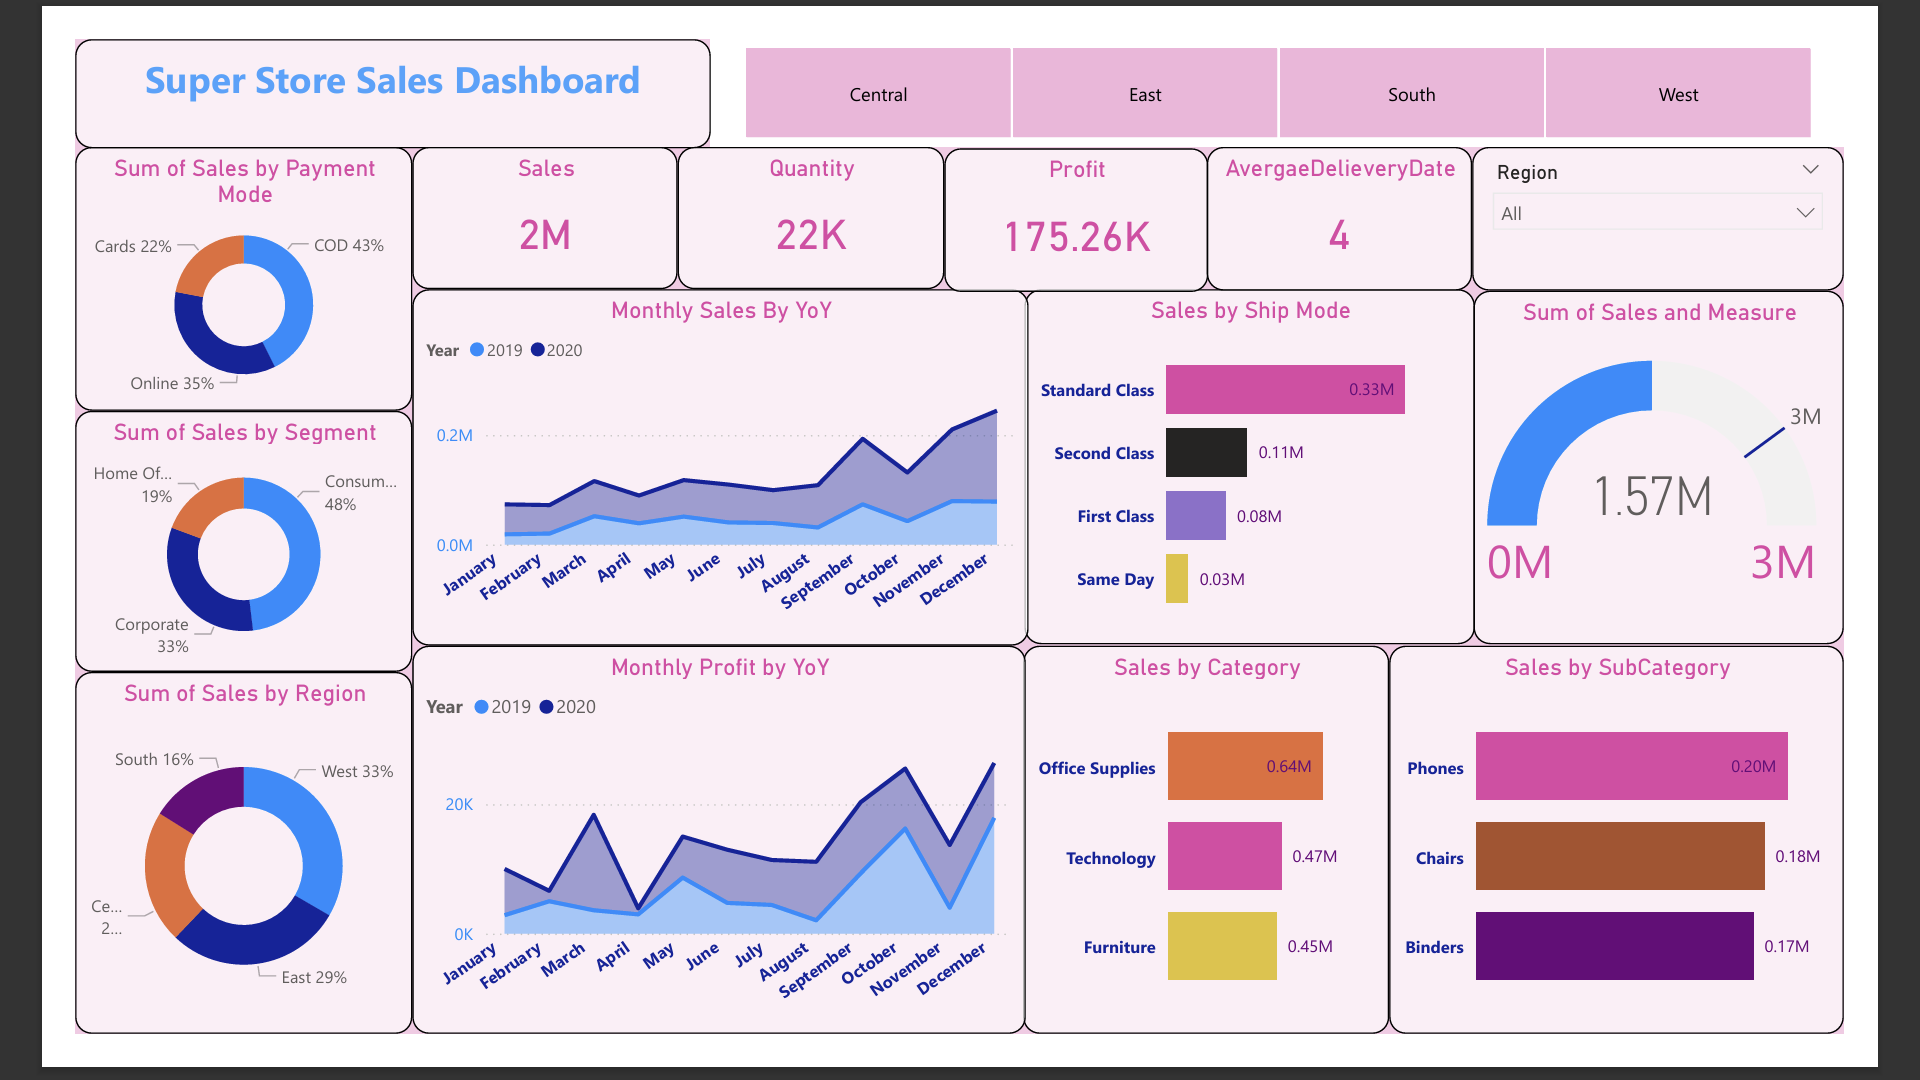

What the dashboard file says about the page in this screenshot:
{"tool":"powerbi","page":{"name":"Page 1","canvas":[1280,720],"ordinal":0},"visuals":[{"type":"clusteredBarChart","title":"Sales by Category","fields":{"Category":["SuperStore_Sales_Dataset.Category"],"Y":["Sum(SuperStore_Sales_Dataset.Sales)"]},"box":[686.2,438.8,265,281.2],"z":0},{"type":"clusteredBarChart","title":"Sales by SubCategory","fields":{"Category":["SuperStore_Sales_Dataset.Sub-Category"],"Y":["Sum(SuperStore_Sales_Dataset.Sales)"]},"box":[951.2,438.8,328.8,281.2],"z":1000},{"type":"clusteredBarChart","title":"Sales by Ship Mode","fields":{"Category":["SuperStore_Sales_Dataset.Ship Mode"],"Y":["Sum(SuperStore_Sales_Dataset.Sales)"]},"box":[687.2,181,325.3,256.8],"z":2000},{"type":"stackedAreaChart","title":"Monthly Sales By YoY","fields":{"Y":["Sum(SuperStore_Sales_Dataset.Sales)"],"Category":["SuperStore_Sales_Dataset.Order Date.Variation.Date Hierarchy.Month"],"Series":["SuperStore_Sales_Dataset.Order Date.Variation.Date Hierarchy.Year"]},"box":[243.8,181.2,446.2,257.5],"z":3000},{"type":"stackedAreaChart","title":"Monthly Profit by YoY","fields":{"Category":["SuperStore_Sales_Dataset.Order Date.Variation.Date Hierarchy.Month","SuperStore_Sales_Dataset.Order Date.Variation.Date Hierarchy.Day"],"Y":["Sum(SuperStore_Sales_Dataset.Profit)"],"Series":["SuperStore_Sales_Dataset.Order Date.Variation.Date Hierarchy.Year"]},"box":[243.8,438.8,443.8,281.2],"z":4000},{"type":"donutChart","fields":{"Category":["SuperStore_Sales_Dataset.Segment"],"Y":["Sum(SuperStore_Sales_Dataset.Sales)"]},"box":[0,268.8,243.8,188.8],"z":5000},{"type":"donutChart","fields":{"Y":["Sum(SuperStore_Sales_Dataset.Sales)"],"Category":["SuperStore_Sales_Dataset.Payment Mode"]},"box":[0,77.5,243.8,191.2],"z":6000},{"type":"slicer","fields":{"Values":["SuperStore_Sales_Dataset.Region"]},"box":[459.8,0,820.5,78.3],"z":7000},{"type":"textbox","box":[0,0,460,78.8],"z":8000},{"type":"card","title":"Sales","fields":{"Values":["Sum(SuperStore_Sales_Dataset.Sales)"]},"box":[243.8,77.5,192.5,103.8],"z":9000},{"type":"card","title":"Quantity","fields":{"Values":["Sum(SuperStore_Sales_Dataset.Quantity)"]},"box":[436.2,77.5,192.5,103.8],"z":10000},{"type":"card","title":"Profit","fields":{"Values":["Sum(SuperStore_Sales_Dataset.Profit)"]},"box":[628.8,78.8,191.2,103.8],"z":11000},{"type":"card","title":"AvergaeDelieveryDate","fields":{"Values":["Avg(SuperStore_Sales_Dataset.Column)"]},"box":[819.3,78.3,192,103.9],"z":12000},{"type":"donutChart","fields":{"Y":["Sum(SuperStore_Sales_Dataset.Sales)"],"Category":["SuperStore_Sales_Dataset.Region"]},"box":[0,457.5,243.8,262.5],"z":13000},{"type":"slicer","fields":{"Values":["SuperStore_Sales_Dataset.Region"]},"box":[1011.3,78.3,269,103.9],"z":13001},{"type":"gauge","fields":{"Y":["Sum(SuperStore_Sales_Dataset.Sales)"],"TargetValue":["SuperStore_Sales_Dataset.Measure"]},"box":[1012,182,268,256],"z":13002}]}

Visuals, with their boxes in screenshot pixels (x1, y1, x2, y2), scaled from the page's 1280x720 canvas onto the 1920x1080 screenshot:
"Sales by Category" clusteredBarChart: x1=1029 y1=658 x2=1427 y2=1079
"Sales by SubCategory" clusteredBarChart: x1=1427 y1=658 x2=1919 y2=1079
"Sales by Ship Mode" clusteredBarChart: x1=1031 y1=272 x2=1519 y2=657
"Monthly Sales By YoY" stackedAreaChart: x1=366 y1=272 x2=1035 y2=658
"Monthly Profit by YoY" stackedAreaChart: x1=366 y1=658 x2=1031 y2=1079
donutChart - SuperStore_Sales_Dataset.Segment x Sum(SuperStore_Sales_Dataset.Sales): x1=0 y1=403 x2=366 y2=686
donutChart - Sum(SuperStore_Sales_Dataset.Sales) x SuperStore_Sales_Dataset.Payment Mode: x1=0 y1=116 x2=366 y2=403
slicer - SuperStore_Sales_Dataset.Region: x1=690 y1=0 x2=1919 y2=117
textbox: x1=0 y1=0 x2=690 y2=118
"Sales" card: x1=366 y1=116 x2=654 y2=272
"Quantity" card: x1=654 y1=116 x2=943 y2=272
"Profit" card: x1=943 y1=118 x2=1230 y2=274
"AvergaeDelieveryDate" card: x1=1229 y1=117 x2=1517 y2=273
donutChart - Sum(SuperStore_Sales_Dataset.Sales) x SuperStore_Sales_Dataset.Region: x1=0 y1=686 x2=366 y2=1079
slicer - SuperStore_Sales_Dataset.Region: x1=1517 y1=117 x2=1919 y2=273
gauge - Sum(SuperStore_Sales_Dataset.Sales) x SuperStore_Sales_Dataset.Measure: x1=1518 y1=273 x2=1919 y2=657
